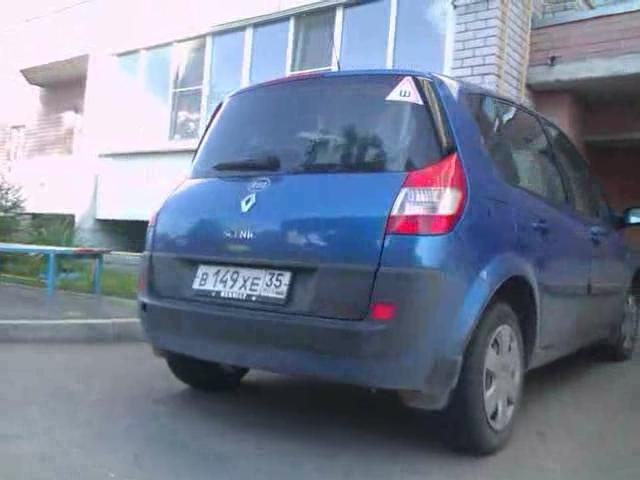car license plate: (188, 264, 295, 309)
